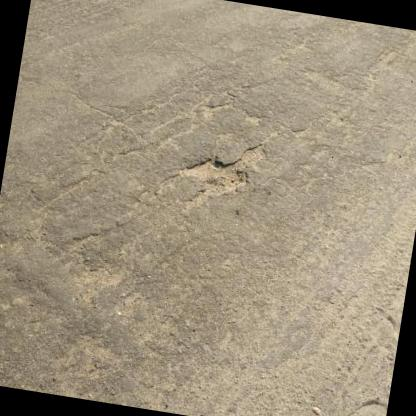pothole: (172, 150, 254, 202), (239, 140, 269, 164)
